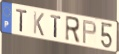5: (100, 21, 113, 49)
K: (33, 10, 45, 38)
P: (82, 20, 98, 46)
R: (64, 15, 81, 45)
T: (50, 14, 63, 40), (15, 9, 28, 34)
